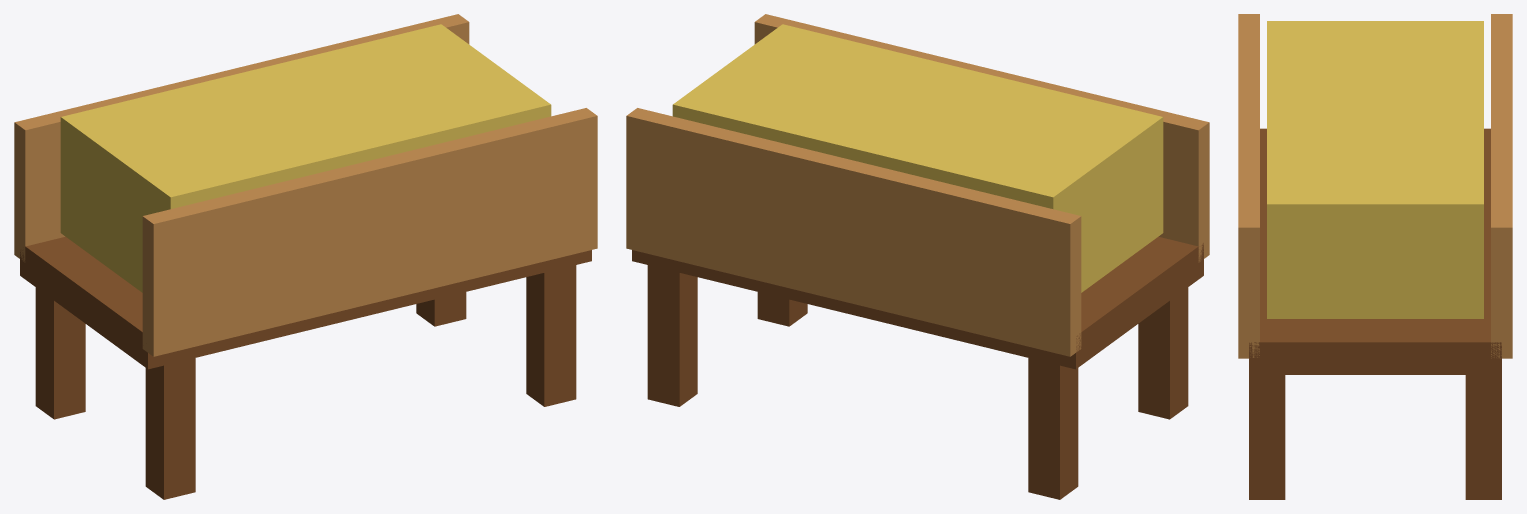
Rendered from hay_bale_feeder.glb.
The picture shows the model from 3 angles, left to right: view 1: azimuth 30°, elevation 25°; view 2: azimuth 150°, elevation 25°; view 3: azimuth 270°, elevation 25°; orthographic projection.
Visible parts, largest first — view 1: hay_bale_feeder; view 2: hay_bale_feeder; view 3: hay_bale_feeder.
Part boxes in pixels (x1,y1,x2,y2): hay_bale_feeder: (14, 14, 597, 499); hay_bale_feeder: (626, 14, 1209, 499); hay_bale_feeder: (1238, 14, 1512, 499).
Size of the model in its own units: 1.4 by 0.88 by 0.76.
